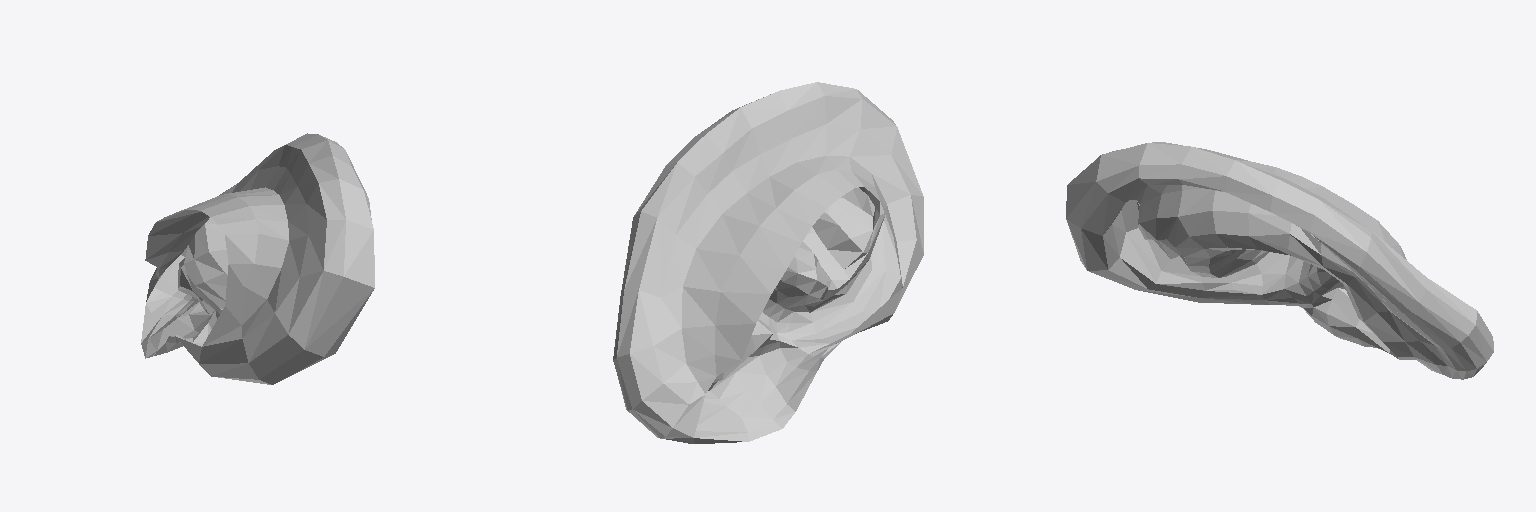
The model's file is ear.obj.
3 views of the same model, side by side, from view 1: azimuth 30°, elevation 25°; view 2: azimuth 150°, elevation 25°; view 3: azimuth 270°, elevation 25° (orthographic).
Bounding box in the file's own units: 2.01 × 2.54 × 3.94.